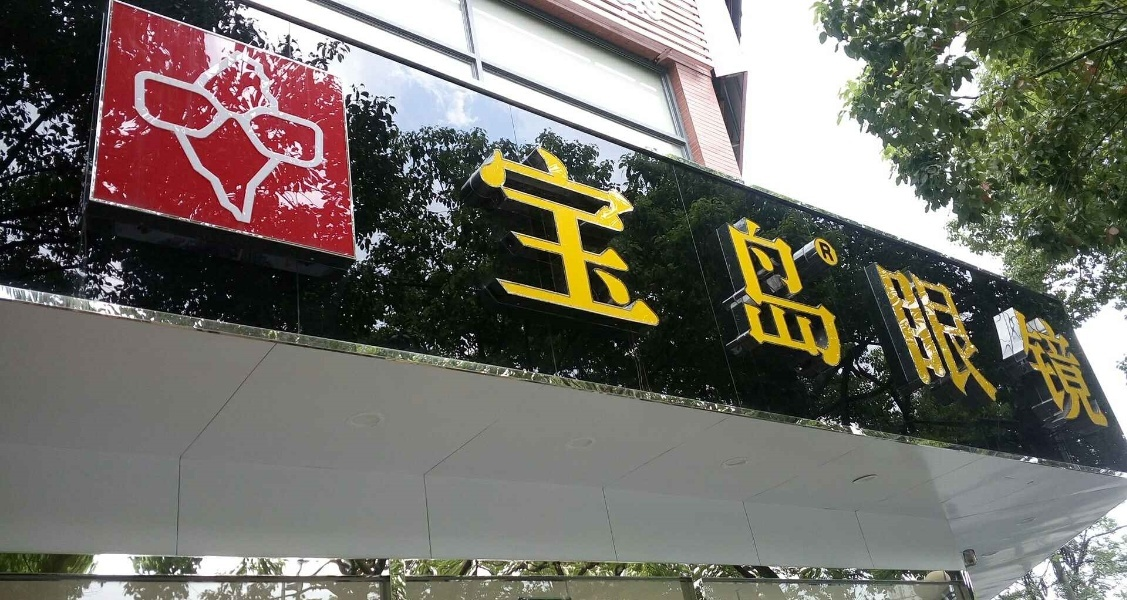text: (481, 124, 496, 436), (497, 124, 512, 436), (513, 124, 528, 436), (529, 124, 544, 436), (545, 124, 560, 436), (561, 124, 576, 436), (577, 124, 592, 436), (593, 124, 608, 436), (609, 124, 624, 436), (625, 124, 640, 436), (641, 124, 656, 436), (657, 124, 672, 436), (673, 124, 688, 436), (689, 124, 704, 436), (705, 124, 720, 436), (721, 124, 736, 436), (737, 124, 752, 436), (753, 124, 768, 436), (769, 124, 784, 436), (785, 124, 800, 436), (801, 124, 816, 436), (817, 124, 832, 436), (833, 124, 848, 436), (849, 124, 864, 436), (865, 124, 880, 436), (881, 124, 896, 436), (897, 124, 912, 436), (913, 124, 928, 436), (929, 124, 944, 436), (945, 124, 960, 436), (961, 124, 976, 436), (977, 124, 992, 436), (993, 124, 1008, 436), (1009, 124, 1024, 436), (1025, 124, 1040, 436), (1041, 124, 1056, 436), (1057, 124, 1072, 436), (1073, 124, 1088, 436), (1089, 124, 1104, 436), (1105, 124, 1115, 436), (475, 124, 480, 436), (818, 241, 832, 262), (833, 241, 837, 262)
